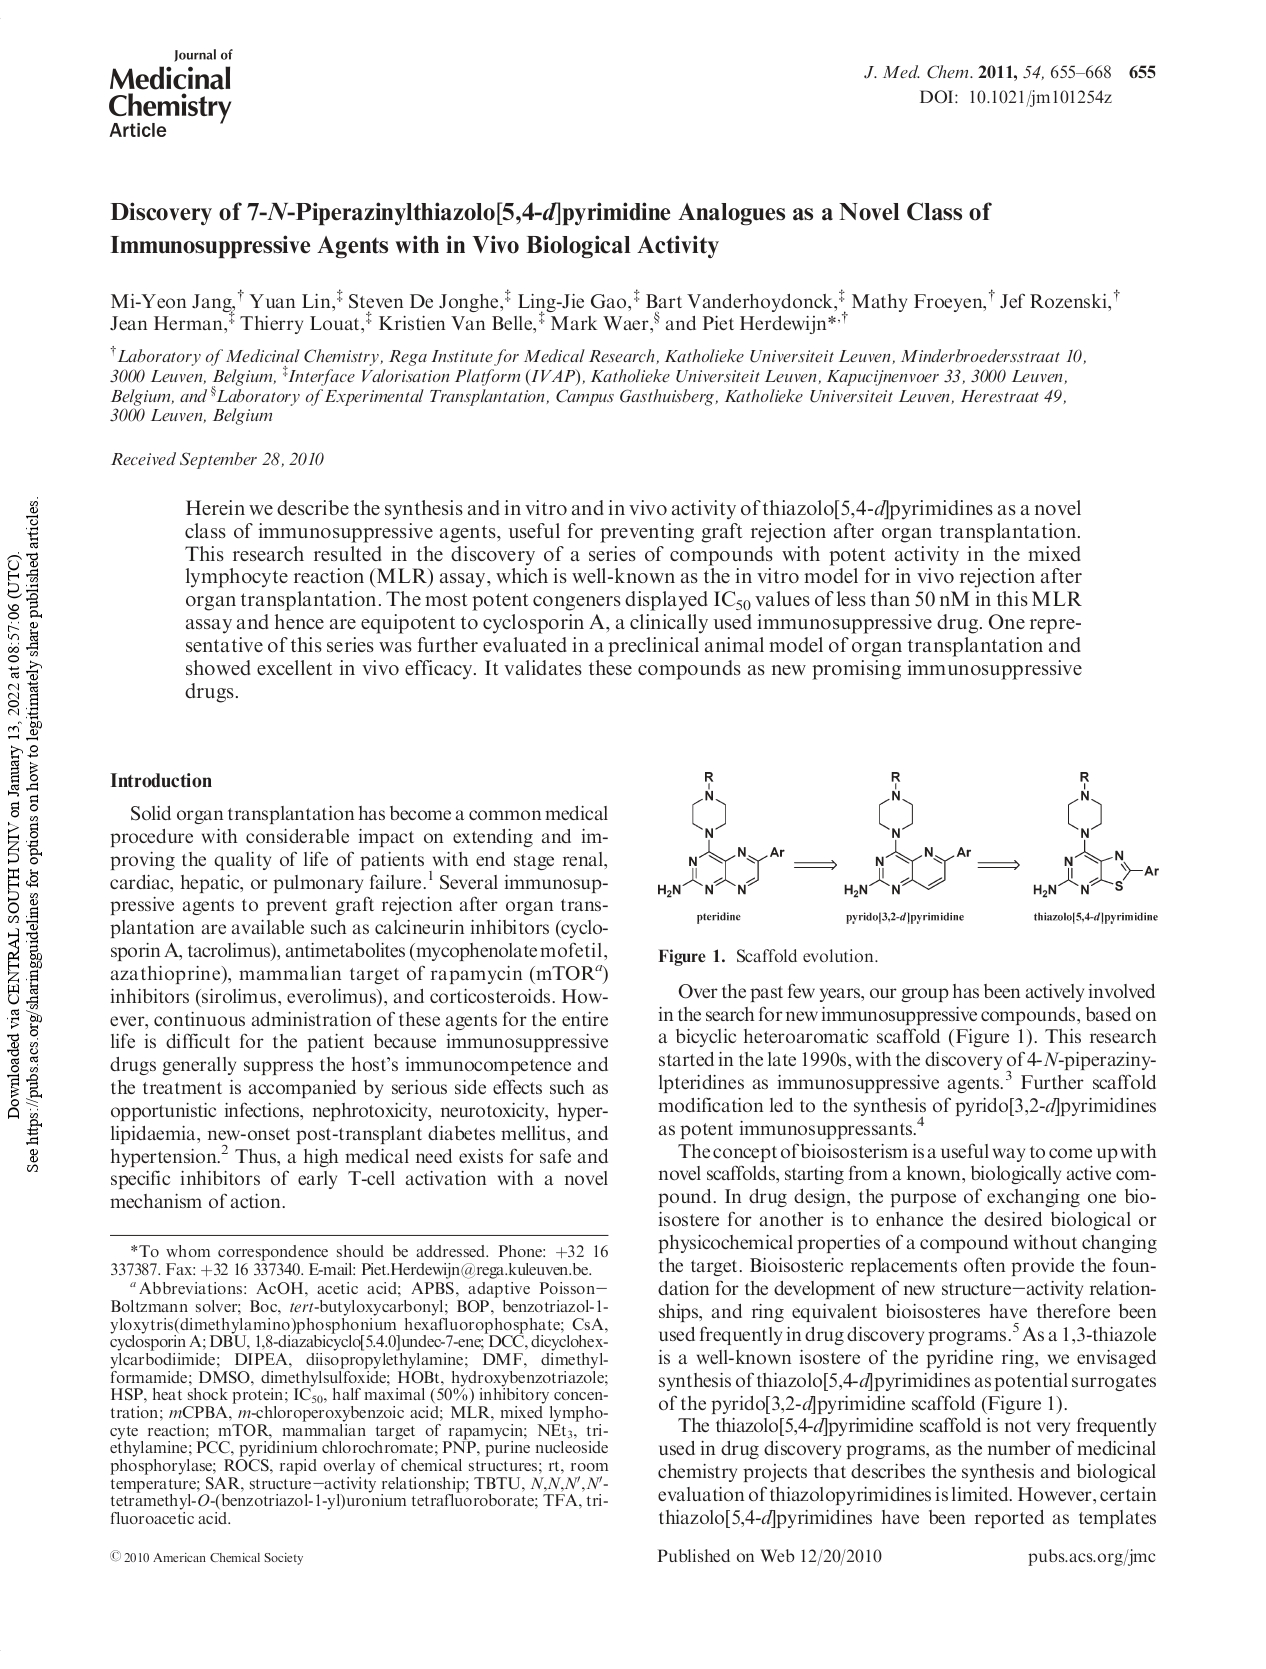exist_molecular: (1031, 767, 1164, 902), (840, 770, 975, 902), (656, 769, 787, 900)
